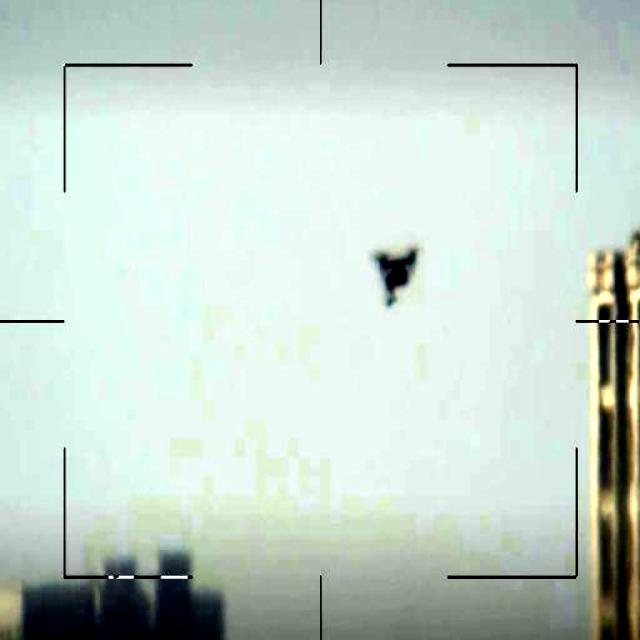bird: (372, 241, 421, 311)
